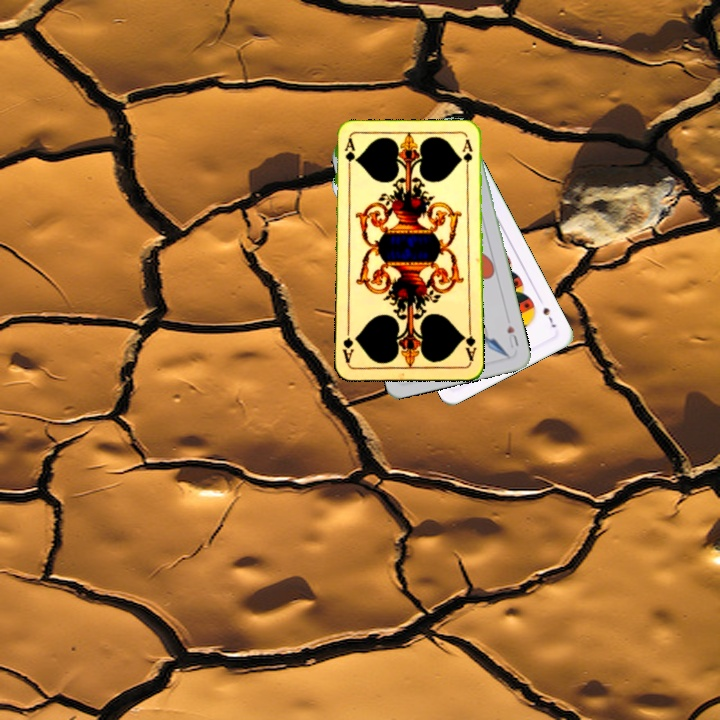GA: (459, 323, 479, 364), (340, 135, 357, 175)
HU: (503, 321, 521, 350)
S7: (539, 303, 558, 330)
